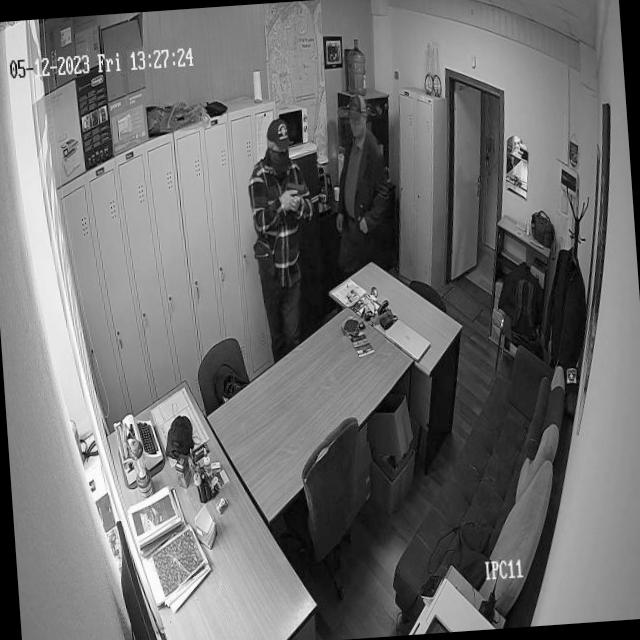gun: (284, 178, 308, 214)
person: (326, 89, 396, 264)
person with a gun: (242, 114, 312, 335)
